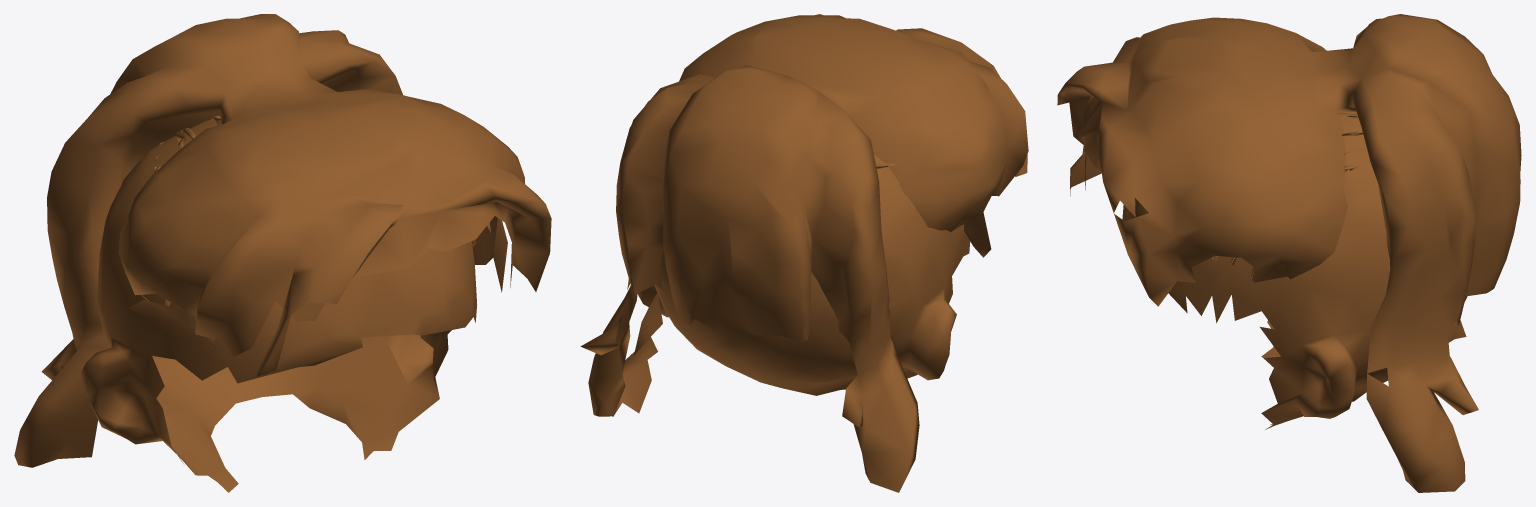
The model's file is ponytail.glb.
3 views of the same model, side by side, from view 1: azimuth 30°, elevation 25°; view 2: azimuth 150°, elevation 25°; view 3: azimuth 270°, elevation 25° (orthographic). The views are drawn at different scales.
Visible parts, largest first — view 1: Hair, HairScalp; view 2: Hair, HairScalp; view 3: Hair, HairScalp.
Part boxes in pixels (x1,y1,x2,y2): Hair: (14,14,551,467); HairScalp: (80,120,476,492); Hair: (580,14,1028,492); HairScalp: (638,155,970,395); Hair: (1057,14,1521,492); HairScalp: (1122,111,1467,429).
Size of the model in its own units: 0.4809 by 0.499 by 0.5416.
